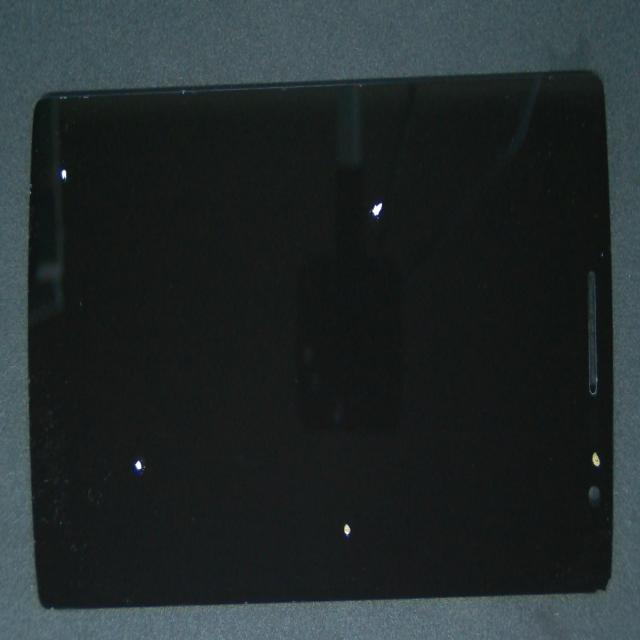Scratches: (328, 510, 382, 568), (119, 440, 168, 501), (357, 172, 392, 230), (48, 151, 76, 184), (584, 440, 611, 470)
